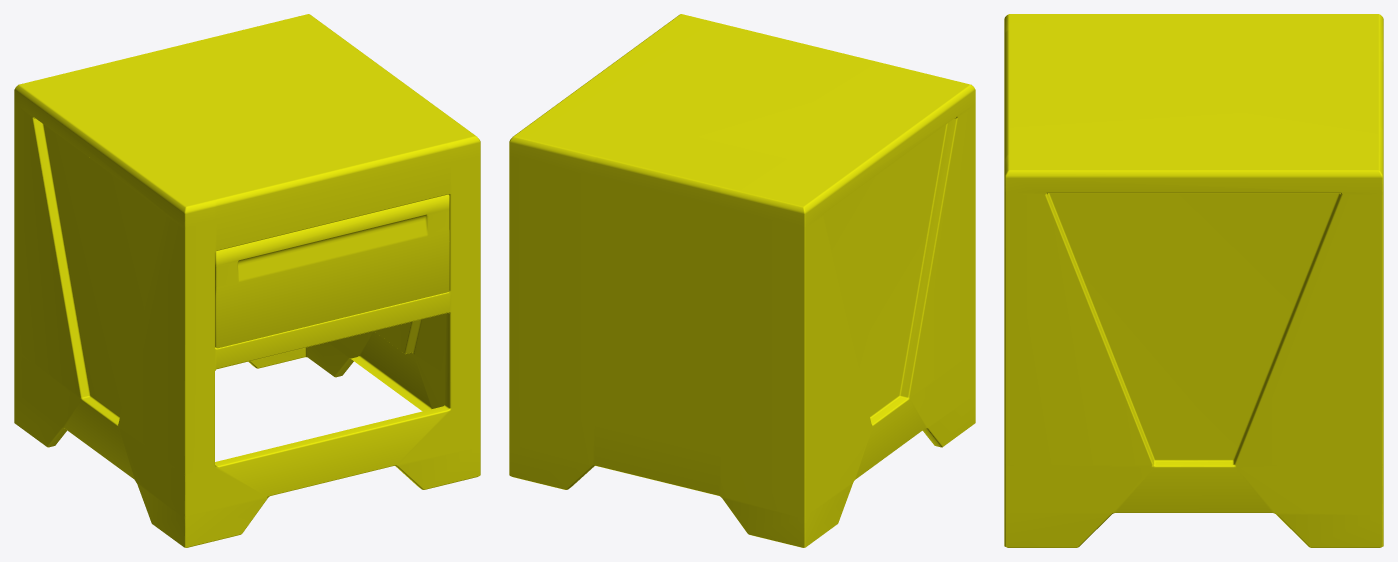
File: Cell1NightStand.fbx
The picture shows the model from 3 angles, left to right: view 1: azimuth 30°, elevation 25°; view 2: azimuth 150°, elevation 25°; view 3: azimuth 270°, elevation 25°; orthographic projection. The views are drawn at different scales.
Parts seen in each view (by area): view 1: Cell1NightStand, Cell1NightStandDrawer; view 2: Cell1NightStand; view 3: Cell1NightStand.
Boxes of the visible parts, x1,y1,x2,y2 form: Cell1NightStand: (14, 14, 480, 547); Cell1NightStandDrawer: (215, 194, 449, 348); Cell1NightStand: (509, 14, 975, 547); Cell1NightStand: (1004, 14, 1383, 547).
Size of the model in its own units: 85.06 by 93.24 by 85.06.
